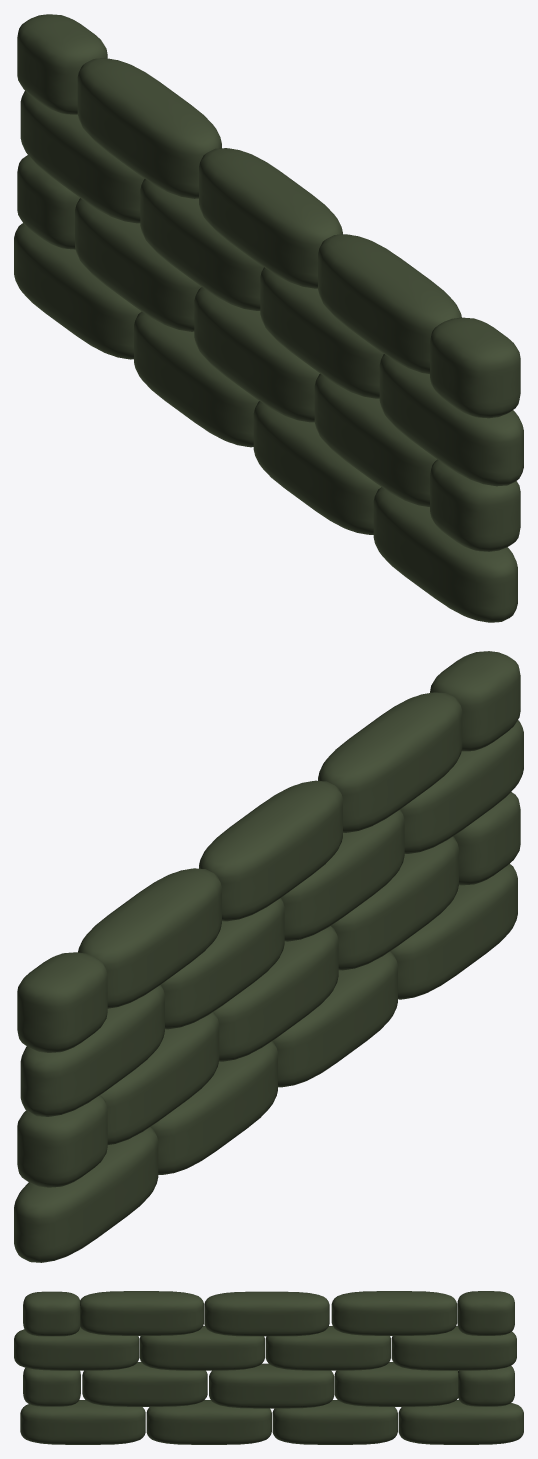
Rendered from Wall 4.fbx.
3 renders of one model, top to bottom at view 1: azimuth 30°, elevation 25°; view 2: azimuth 150°, elevation 25°; view 3: azimuth 270°, elevation 25°, orthographic. The views are drawn at different scales.
Visible parts, largest first — view 1: Cube; view 2: Cube; view 3: Cube.
Part boxes in pixels (bbox=[...]): Cube: bbox=[14, 14, 523, 622]; Cube: bbox=[14, 651, 523, 1262]; Cube: bbox=[14, 1291, 523, 1444].
Size of the model in its own units: 81.86 by 371 by 1169.
